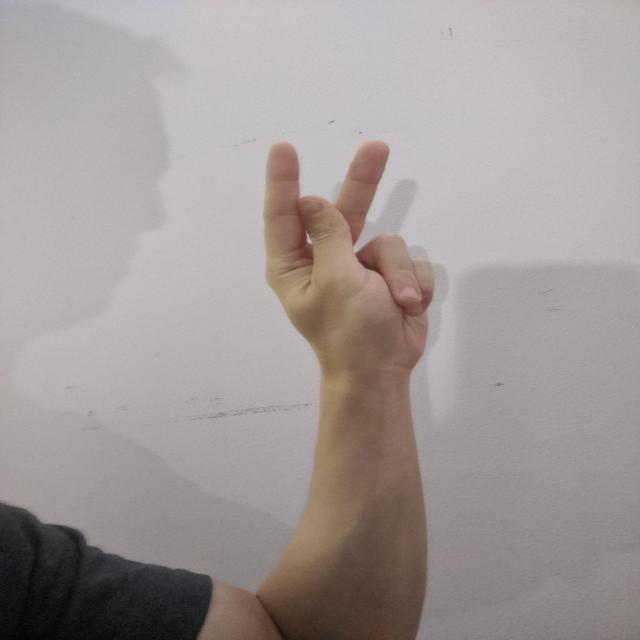K: (254, 132, 443, 376)
